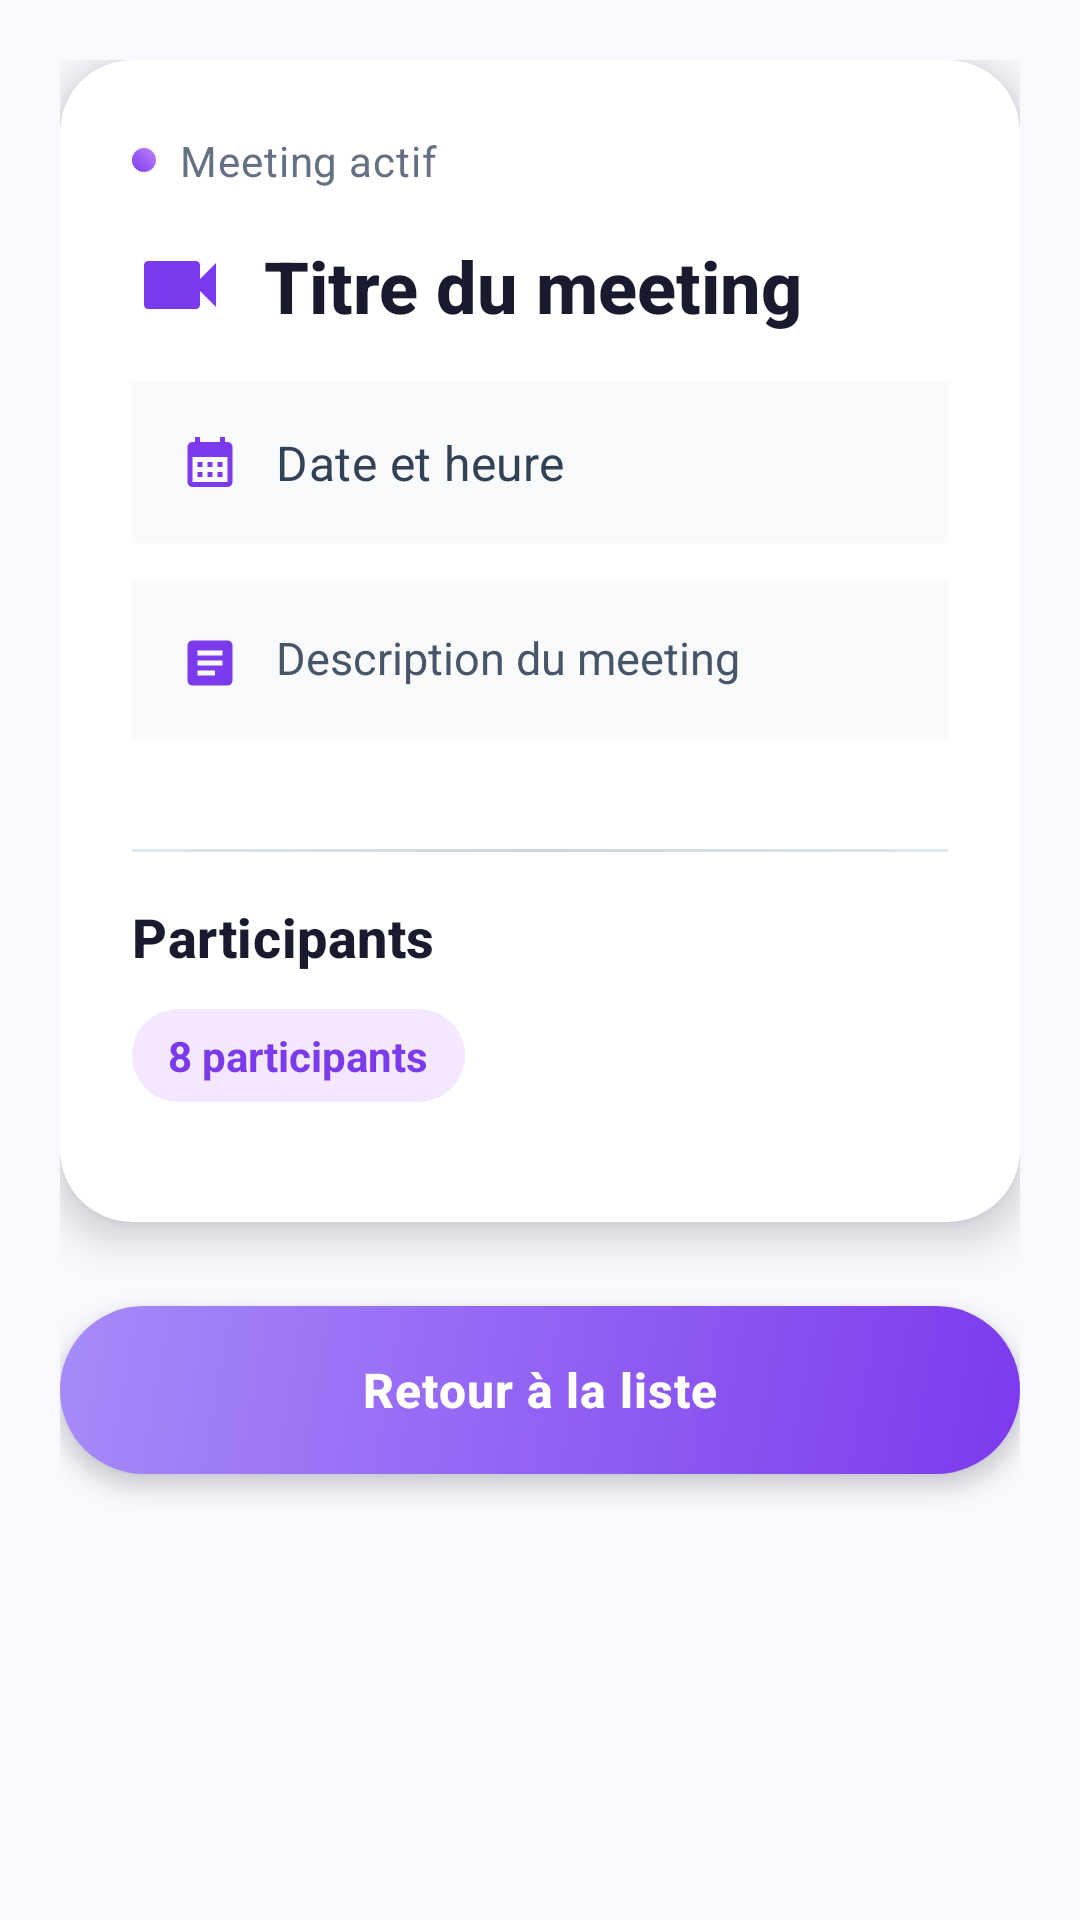

Icon click points for this 1080 × 1920 phone screenshot, format (x,y):
calendar: (210,462)
video: (180,285)
